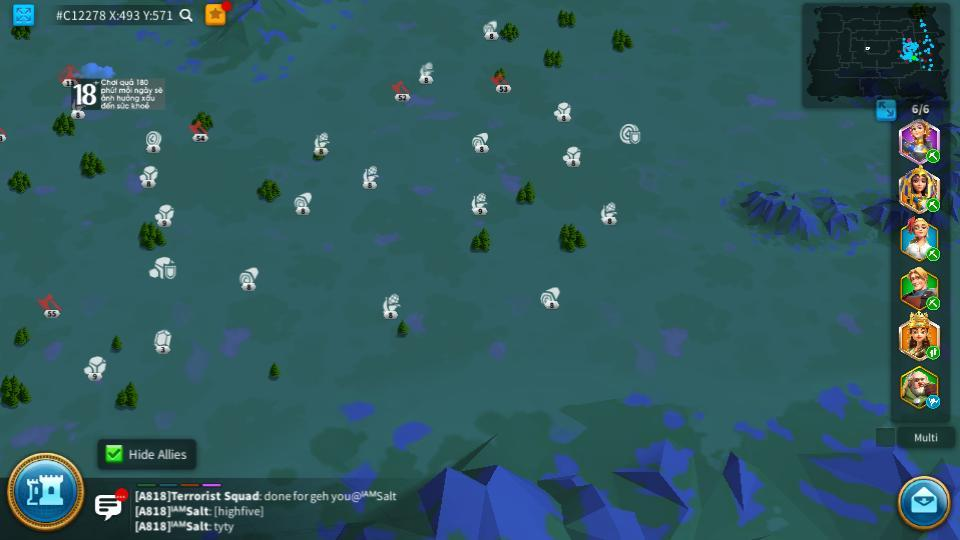gem-z-out: (152, 330, 172, 353)
march_farming: (925, 197, 941, 212), (926, 249, 941, 261)
march_idle: (925, 396, 942, 408)
march_marching: (925, 150, 942, 162), (925, 347, 941, 359), (925, 297, 942, 308)
